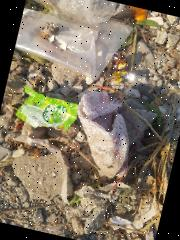general: (14, 85, 80, 137), (108, 51, 130, 77)
plastic: (11, 0, 138, 86), (62, 86, 142, 183), (23, 0, 120, 29)
